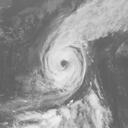cyclone: (38, 39, 86, 93)
